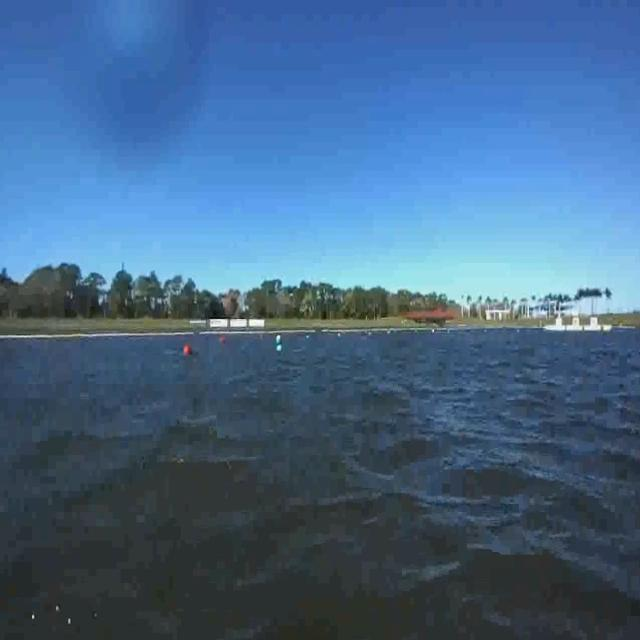green-buoy: (274, 338, 282, 358)
red-buoy: (184, 344, 191, 356)
